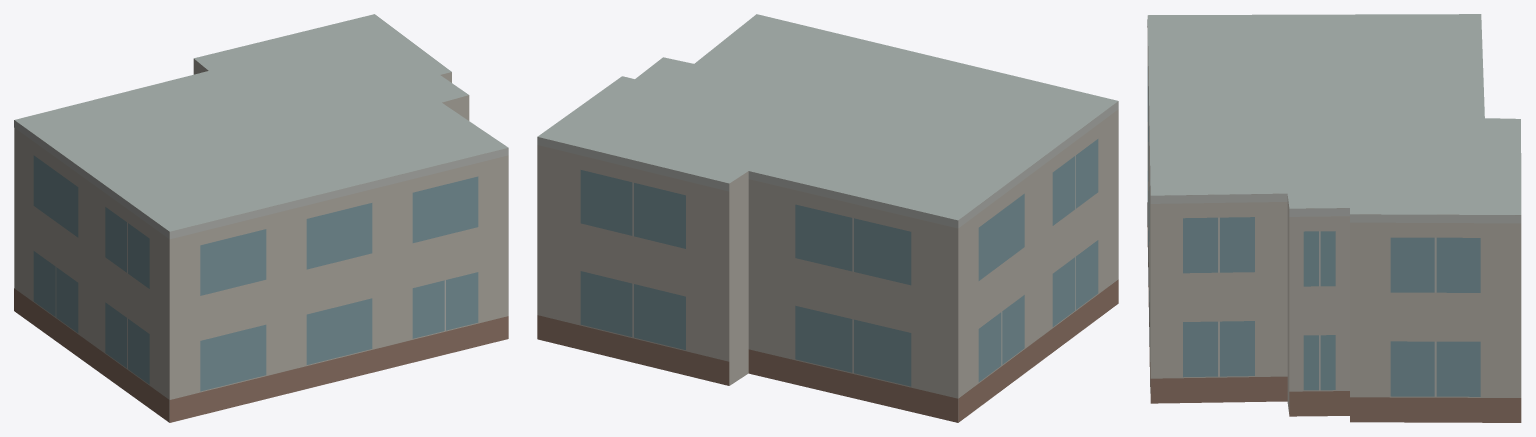
File: survey-upis-32654844.glb
3 renders of one model, left to right at view 1: azimuth 30°, elevation 25°; view 2: azimuth 150°, elevation 25°; view 3: azimuth 270°, elevation 25°, orthographic. The views are drawn at different scales.
Parts seen in each view (by area): view 1: survey-upis-32654844.tmp; view 2: survey-upis-32654844.tmp; view 3: survey-upis-32654844.tmp.
Boxes of the visible parts, <box> form: survey-upis-32654844.tmp: <box>14,14,508,422</box>; survey-upis-32654844.tmp: <box>537,14,1118,422</box>; survey-upis-32654844.tmp: <box>1147,14,1521,422</box>.
Size of the model in its own units: 12.67 by 6.1 by 9.95.
